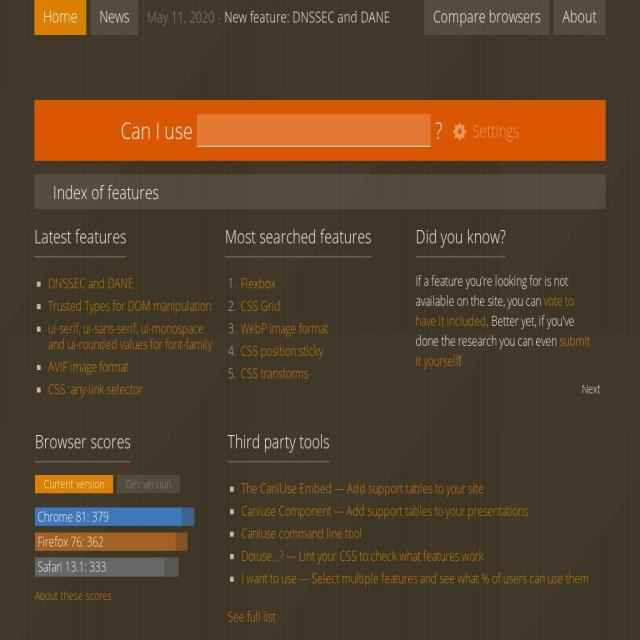button: (34, 173, 606, 209), (146, 8, 421, 30), (424, 0, 550, 35), (34, 0, 86, 35), (554, 0, 606, 35), (446, 120, 520, 144), (90, 0, 138, 35), (35, 474, 114, 494), (117, 474, 181, 494), (35, 589, 113, 602), (576, 379, 606, 398)
field: (197, 113, 431, 147)
heading: (25, 206, 614, 238), (225, 226, 372, 245), (228, 431, 330, 450), (35, 431, 131, 450), (34, 226, 126, 245), (415, 226, 506, 245)
image: (166, 559, 178, 575), (177, 534, 187, 550), (184, 508, 193, 525)
link: (242, 568, 590, 588), (415, 331, 590, 370), (415, 291, 574, 330), (47, 318, 212, 354), (241, 501, 529, 520), (242, 478, 484, 498), (242, 546, 484, 565), (48, 296, 212, 315), (121, 113, 193, 146), (242, 524, 362, 542), (48, 379, 142, 398), (240, 318, 328, 338), (48, 356, 128, 376), (240, 341, 323, 360), (48, 274, 134, 292), (240, 363, 308, 382), (228, 606, 276, 626), (240, 296, 281, 315), (240, 274, 276, 292)
text: (34, 48, 606, 87), (415, 311, 574, 350), (415, 271, 568, 310), (221, 8, 390, 28), (35, 506, 183, 526), (35, 532, 176, 552), (35, 558, 164, 576), (146, 6, 222, 27), (486, 5, 541, 27), (433, 5, 486, 27), (472, 119, 519, 142), (430, 113, 447, 146), (458, 351, 461, 370)
